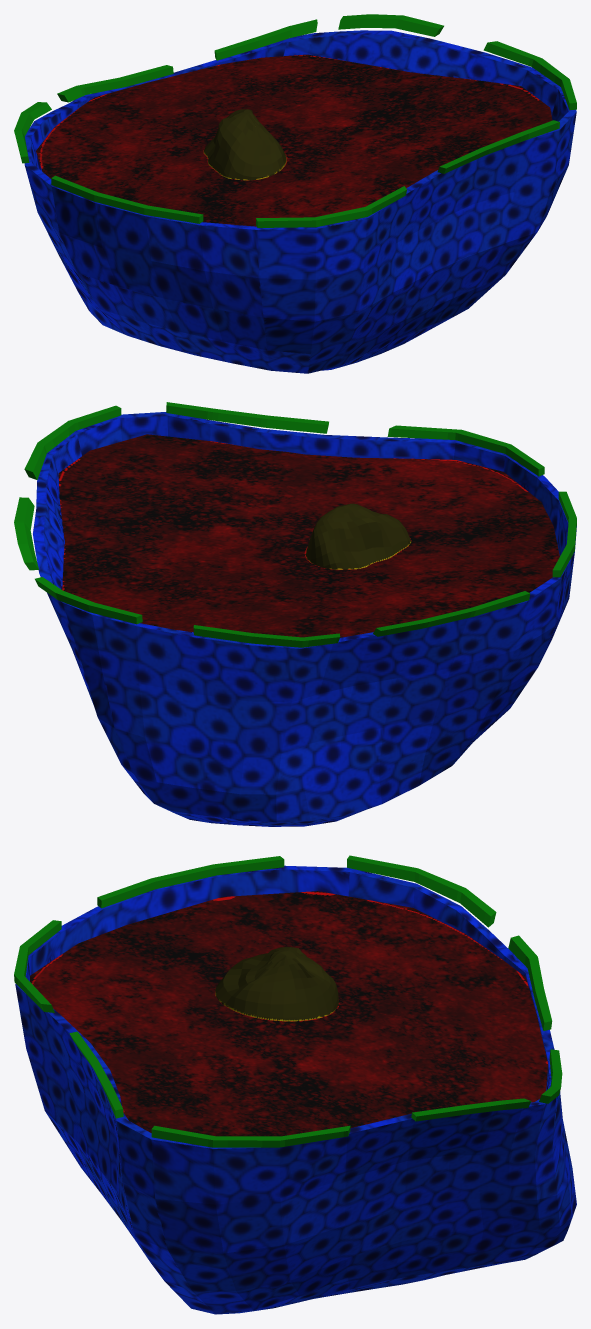
File: Núcleo.gltf
3 views of the same model, one above another, from view 1: azimuth 30°, elevation 25°; view 2: azimuth 150°, elevation 25°; view 3: azimuth 270°, elevation 25° (orthographic). The views are drawn at different scales.
Visible parts, largest first — view 1: Sphere; view 2: Sphere; view 3: Sphere.
Part boxes in pixels (bbox=[...]): Sphere: bbox=[14, 14, 576, 373]; Sphere: bbox=[14, 402, 576, 826]; Sphere: bbox=[14, 855, 576, 1314].
Size of the model in its own units: 1.89 by 0.8954 by 1.58.
Materials: 1 (1 with a texture image).
